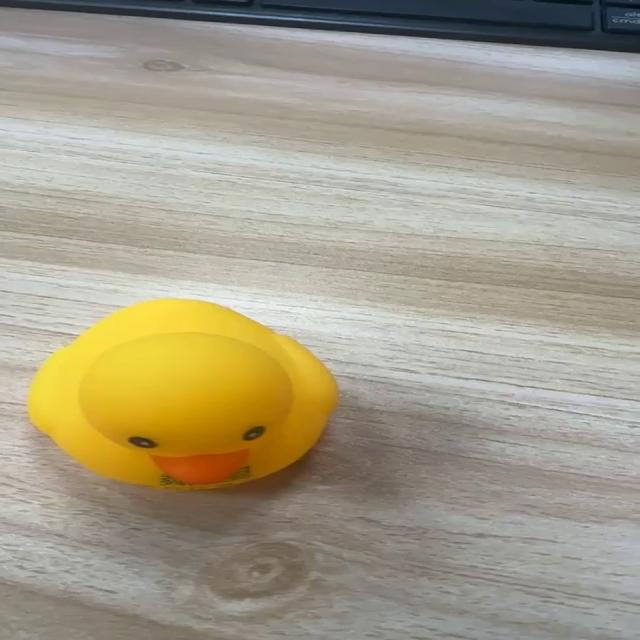yellow_duck: (25, 297, 340, 491)
